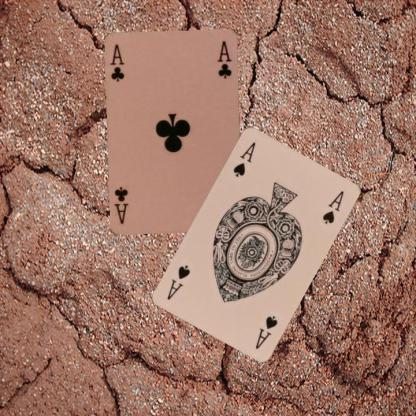Ac: (107, 42, 126, 84)
As: (252, 312, 280, 350), (230, 139, 257, 178)
